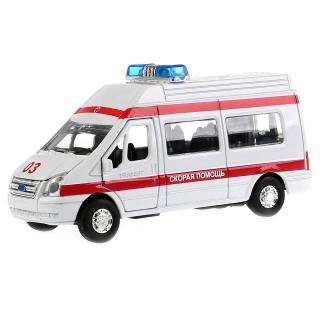Ambulance: (6, 44, 314, 284)
